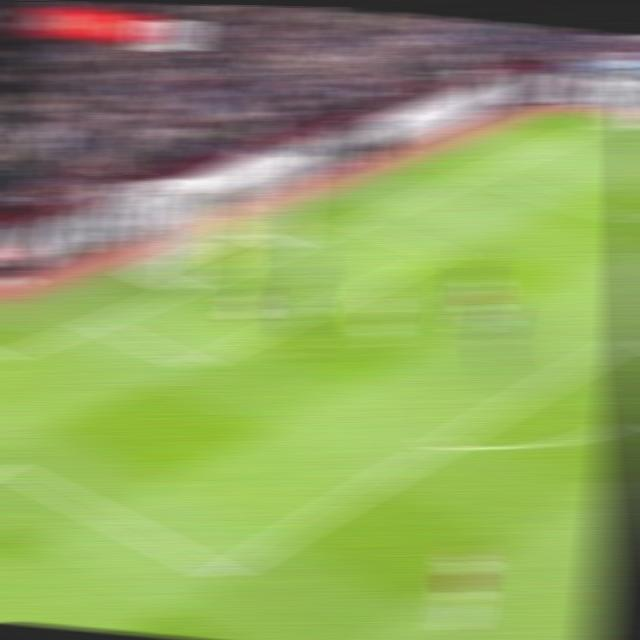bigarea_bottom_inner: (199, 555, 245, 593)
bigarea_top_outter: (460, 164, 493, 181)
bottom_arc_area_intersection: (422, 430, 461, 460)
corner: (587, 116, 620, 130)
smallarea_bottom_inner: (173, 348, 213, 381)
smallarea_bottom_outter: (78, 310, 115, 334)
smallarea_top_inner: (426, 240, 460, 264)
smallarea_top_outter: (336, 213, 370, 232)
